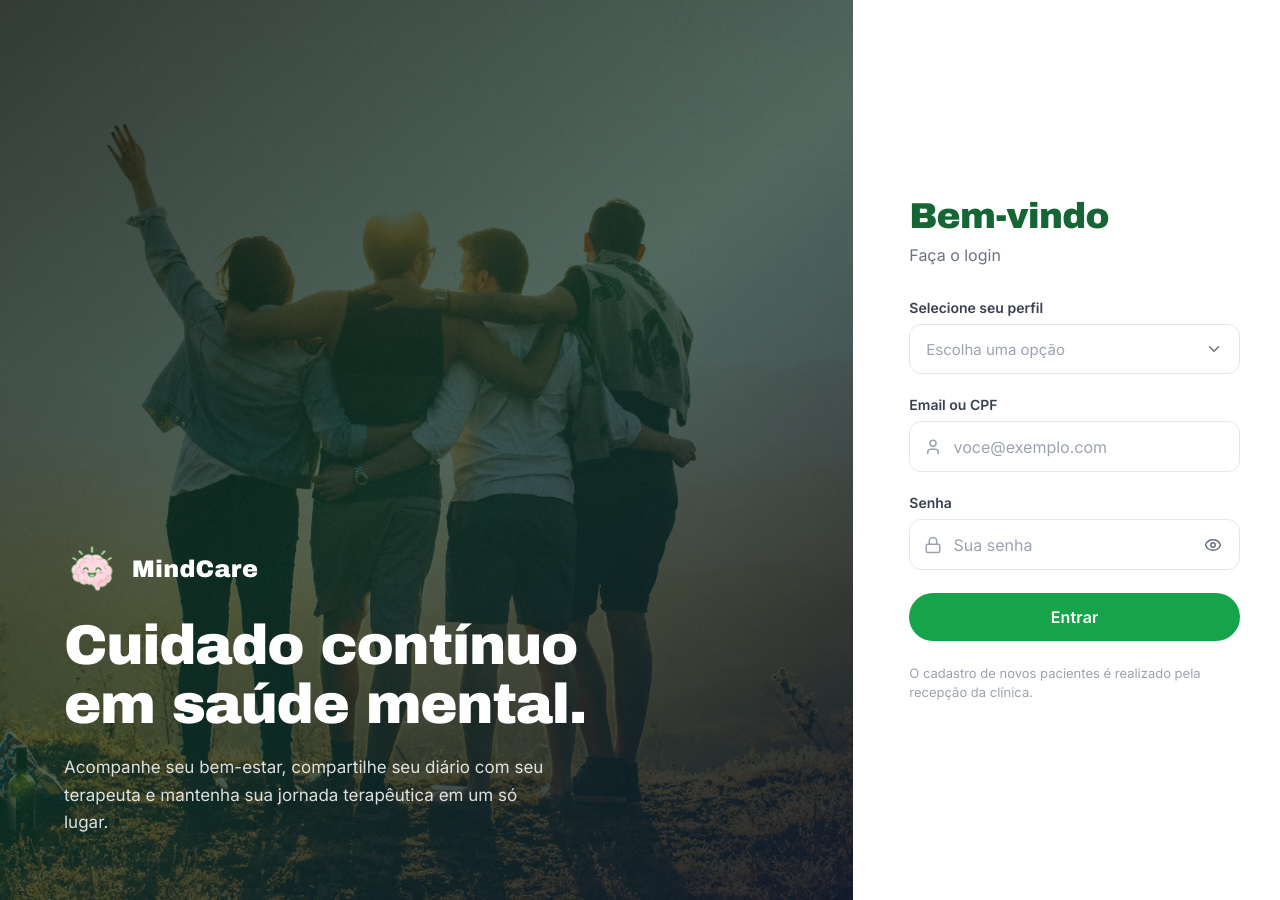
it: Tela de Login › informa quando o perfil selecionado e incorreto
The width and height of the screenshot is (1280, 900).
Click the button "Escolha uma opção": (996, 349) top-left (909, 324), bottom-right (1240, 374)
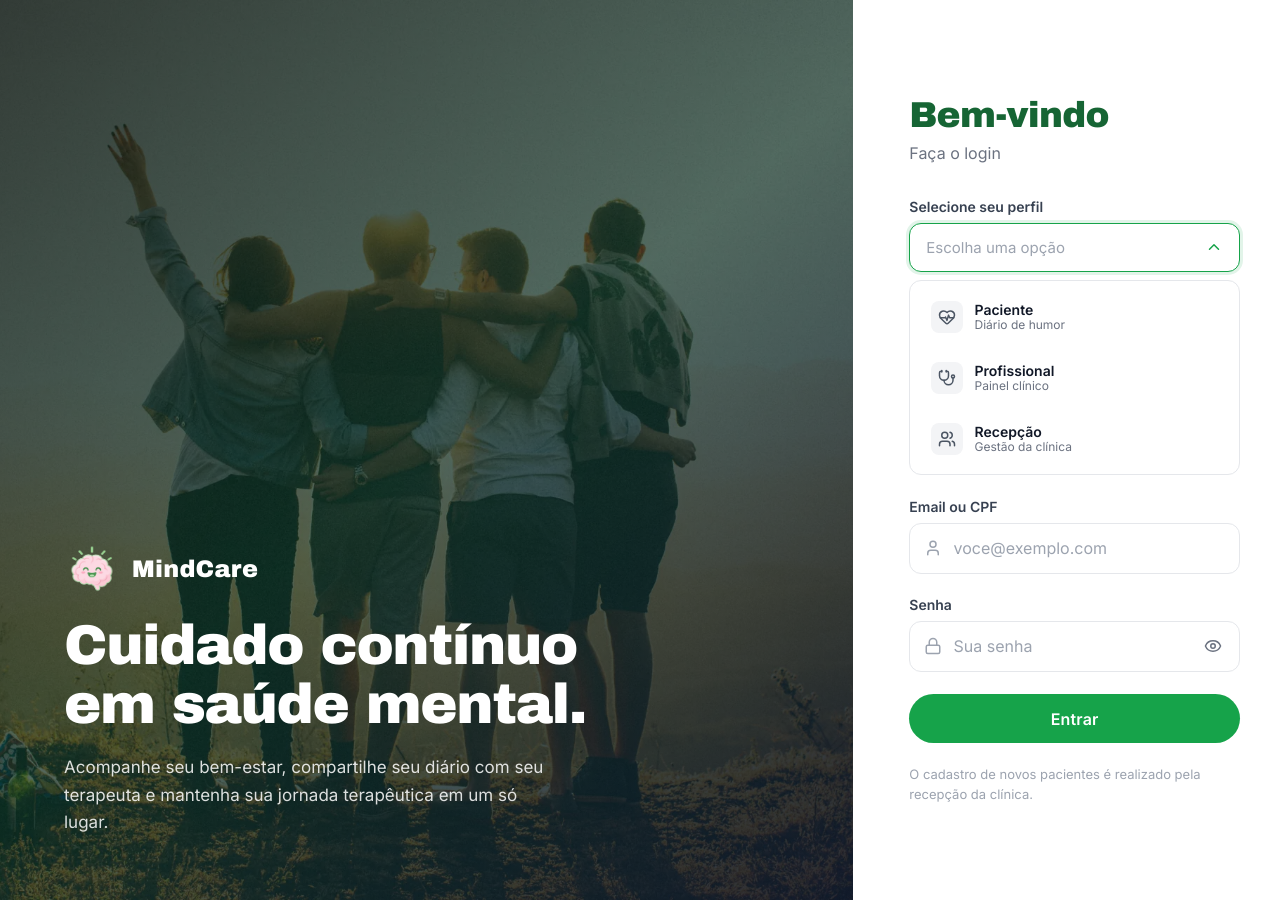
Click the option "Paciente Diário de humor": (947, 317) top-left (918, 289), bottom-right (1231, 344)
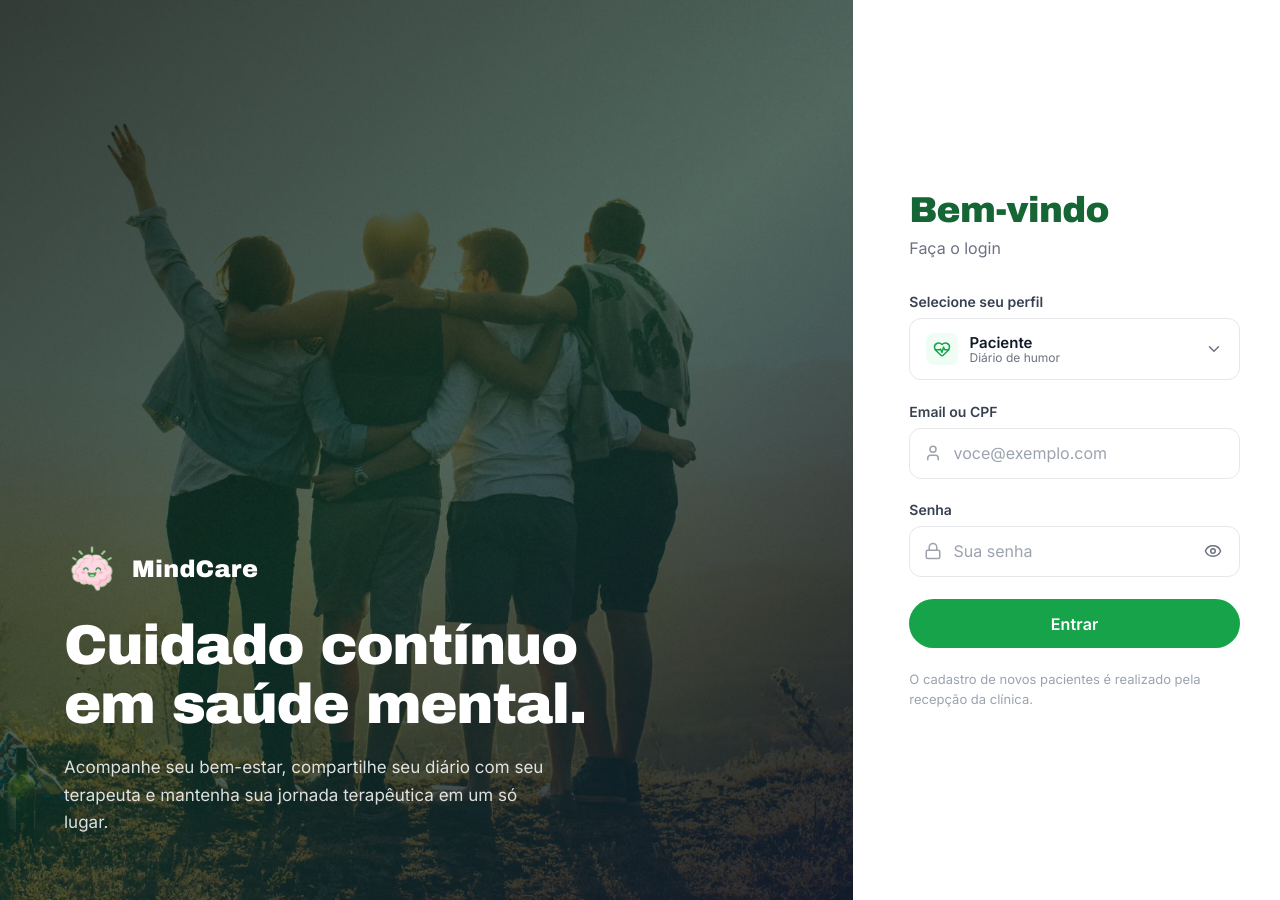
In the field labelled "Email ou CPF": (1075, 453) top-left (909, 428), bottom-right (1240, 479), type "usuario@teste.com"
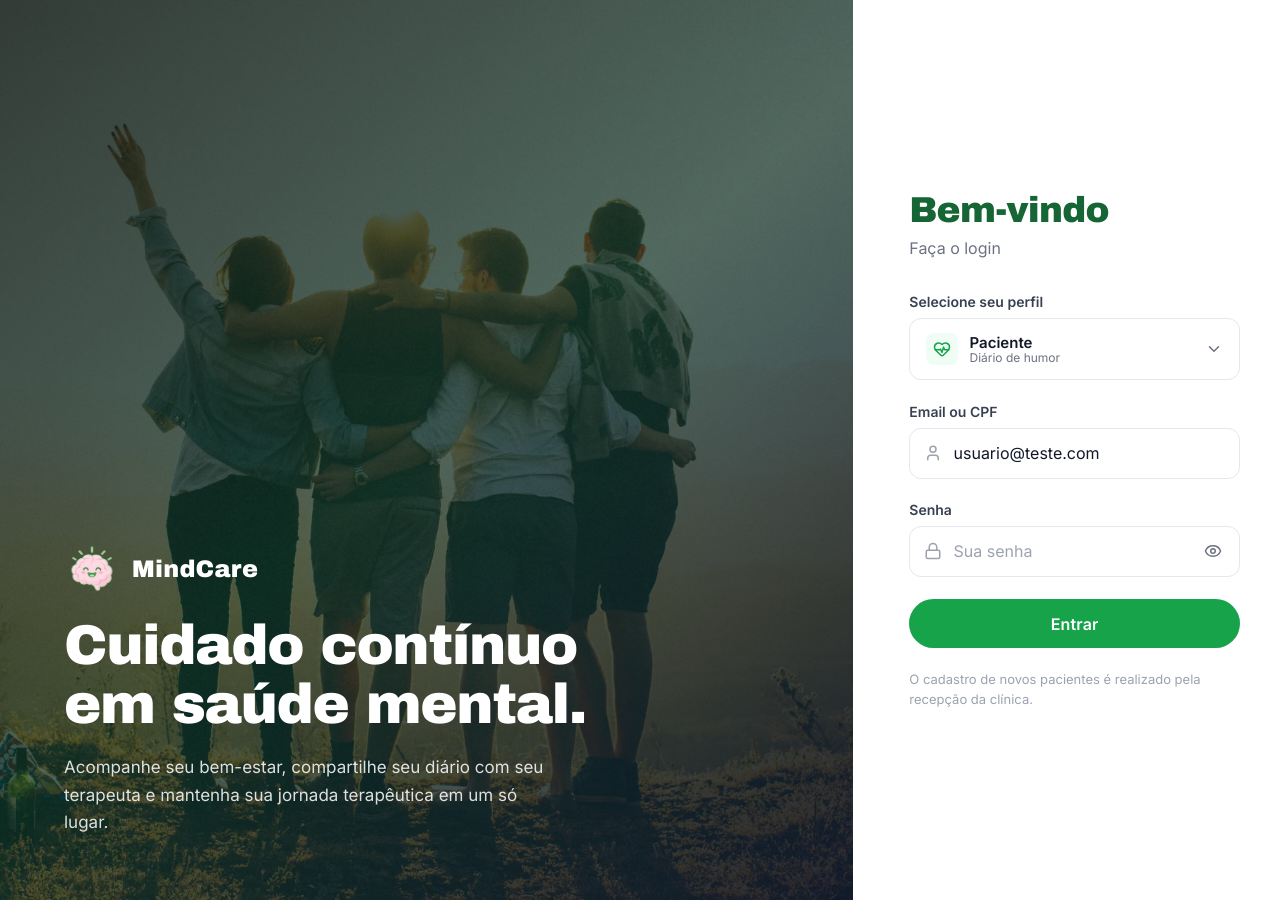
In the password field labelled "Senha": (1075, 551) top-left (909, 526), bottom-right (1240, 577), type "senhaTeste"
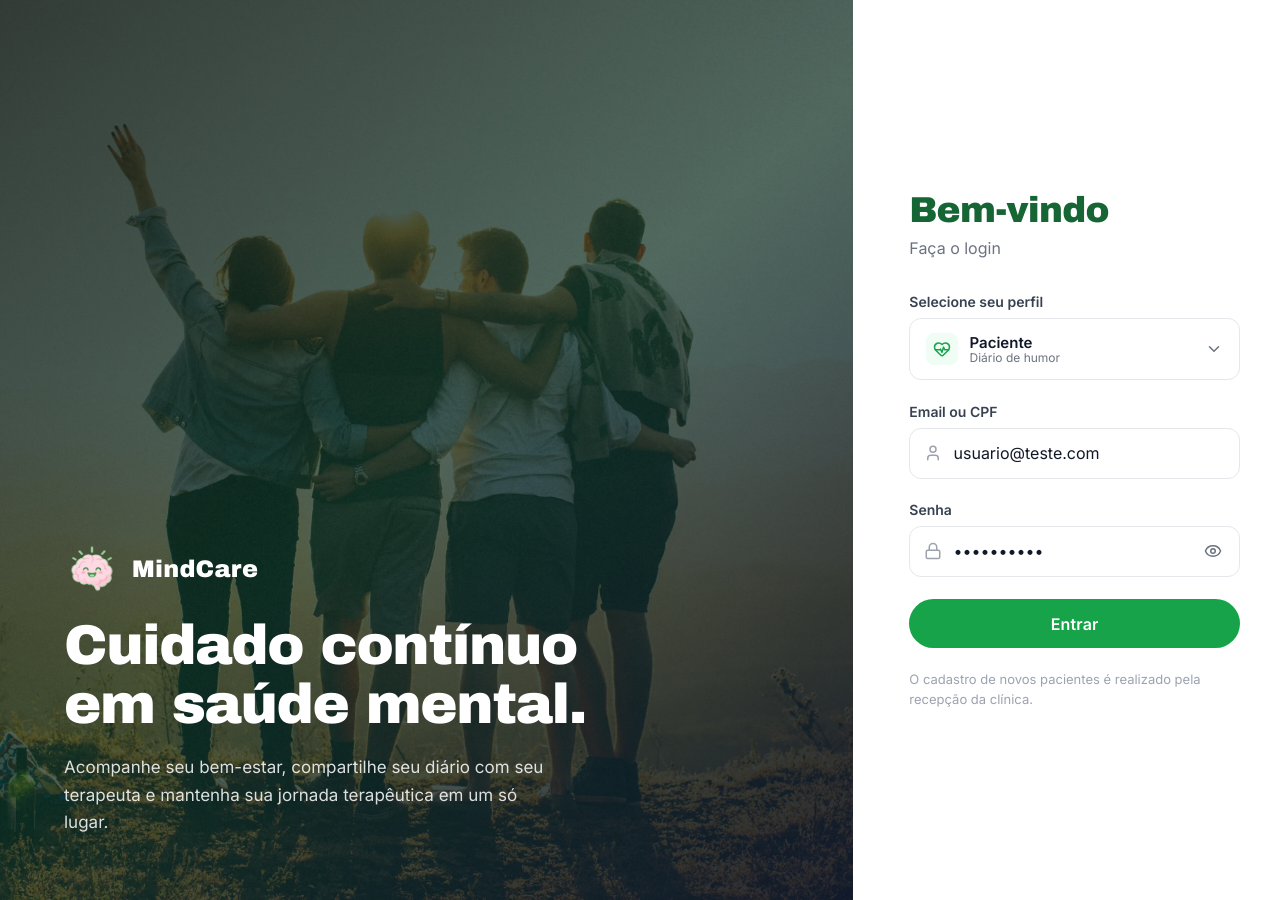
Click the button "Entrar": (1075, 624) top-left (909, 599), bottom-right (1240, 648)
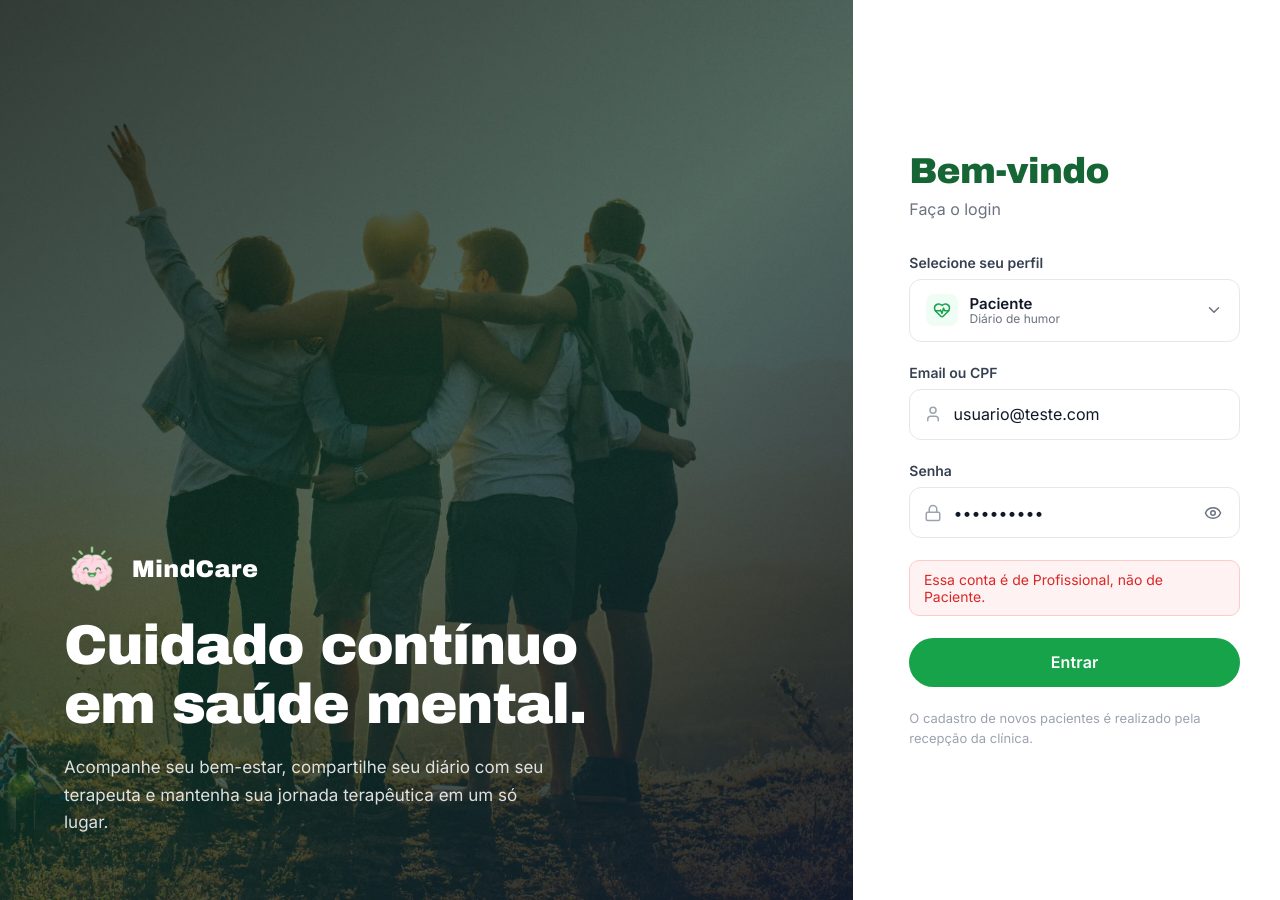
Result: the text "Essa conta é de Profissional, não de Paciente." is shown at top-left (909, 560), bottom-right (1240, 616)
